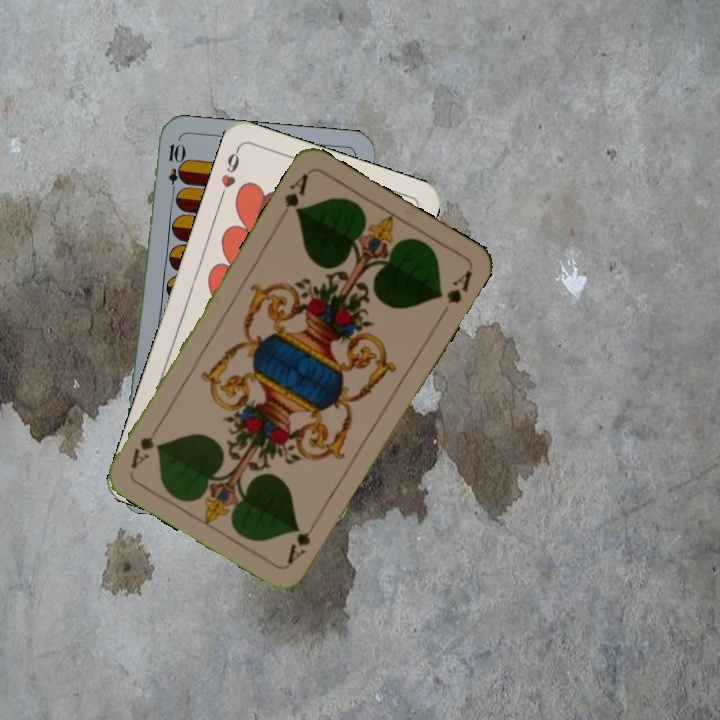E10: (164, 140, 184, 199)
GA: (275, 168, 311, 222), (283, 528, 314, 567)
H9: (216, 144, 243, 202)
